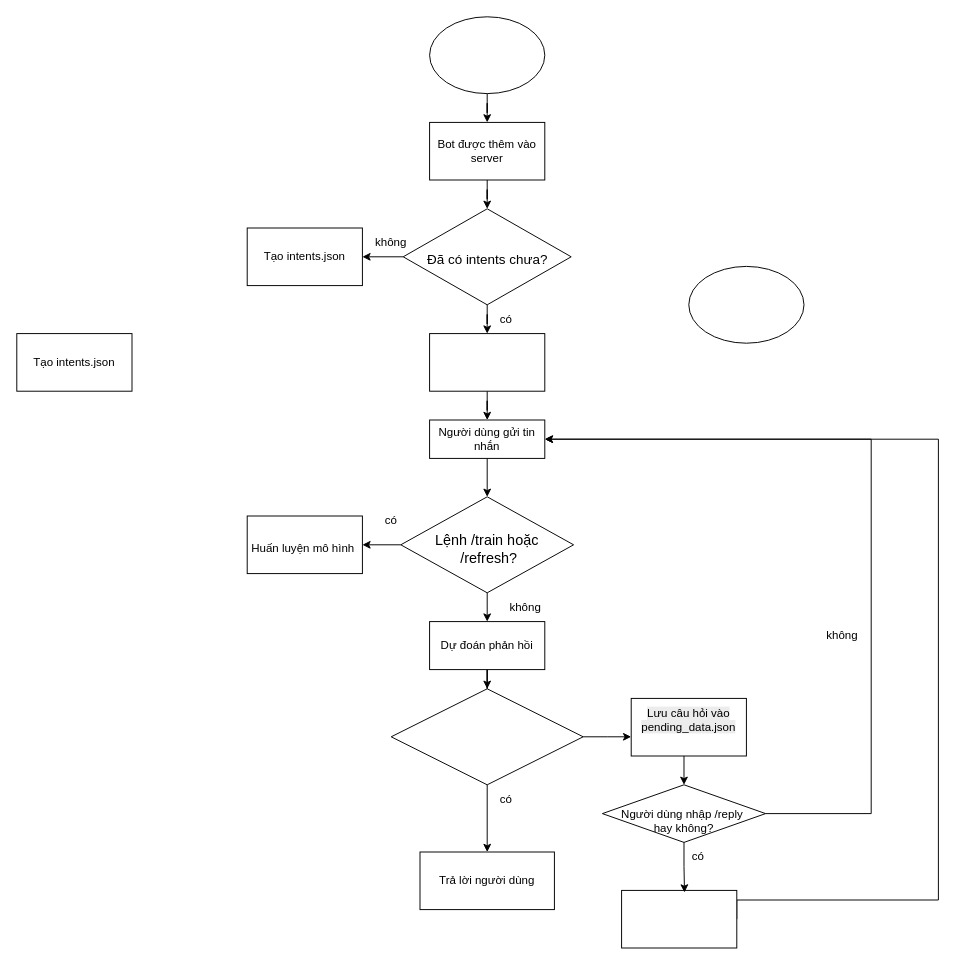
Image size: 963x965. Some labels were removed from this diagram. Each missing label, with the centre of its shape:
"Bắt đầu" goes at pixel 487 55.
"Dự đoán có độ tin cậy trên 40% không?" goes at pixel 486 736.
"Huấn luyện lại mô hình (nếu có lệnh /train)" goes at pixel 679 918.
"Kết thúc" goes at pixel 746 304.
"Tải mô hình, vectorizer, intents" goes at pixel 487 362.
